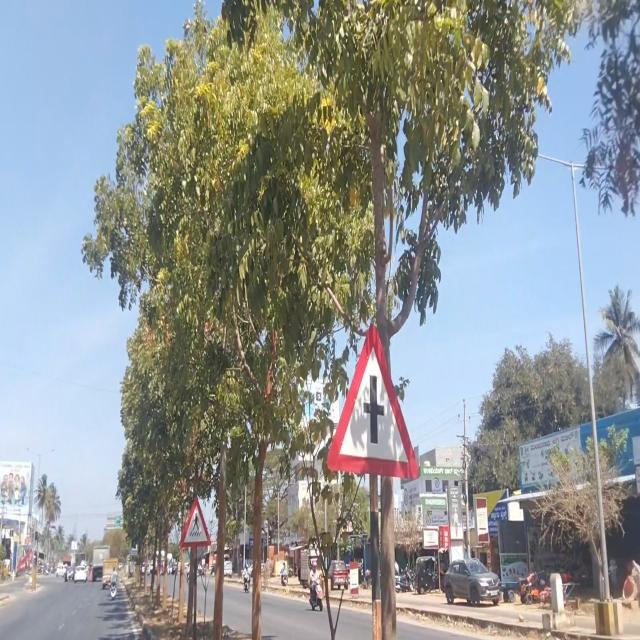bien_cam: (327, 321, 419, 483), (180, 495, 212, 547)
